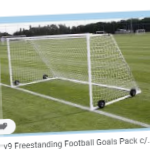goals: (4, 32, 143, 112)
